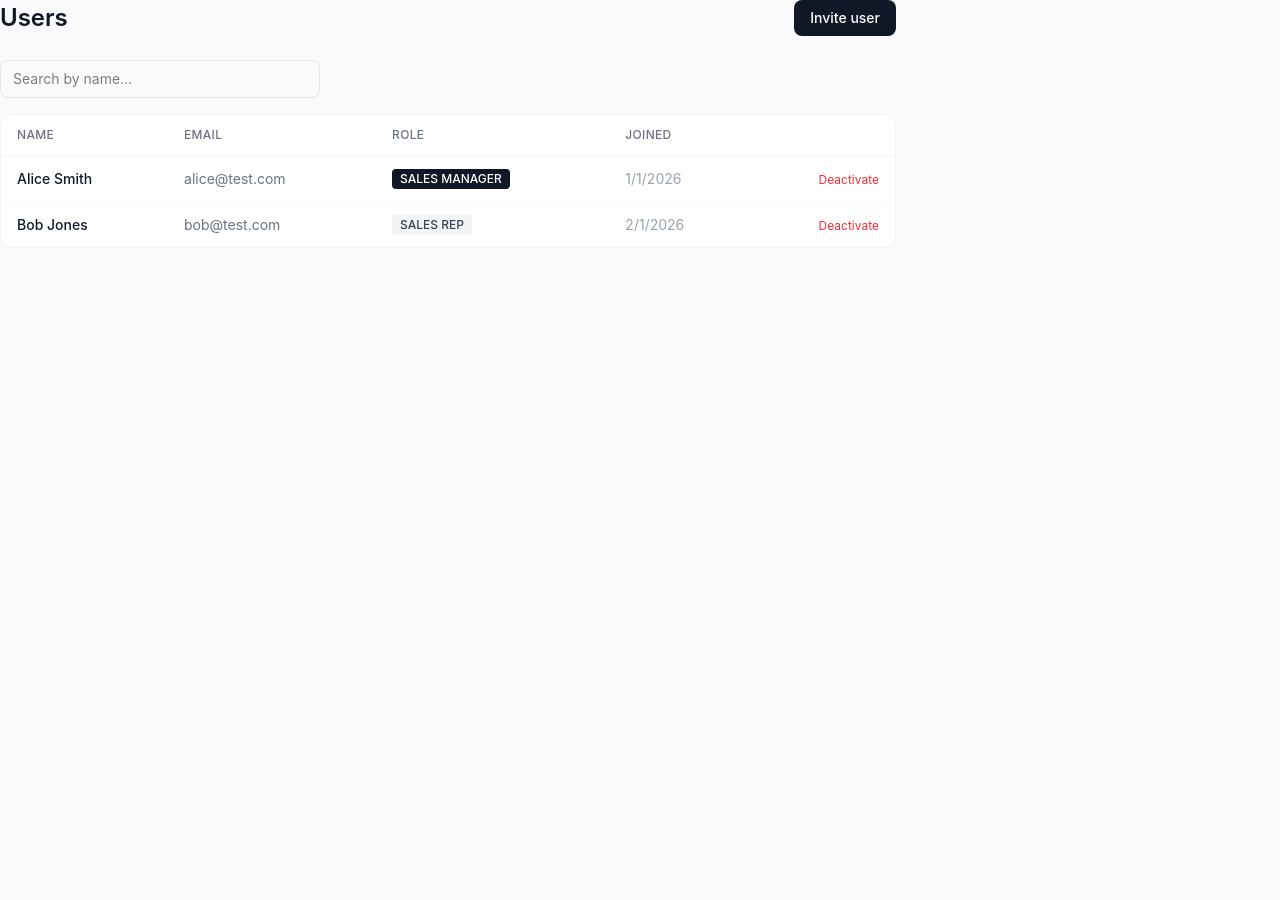
Test case: UsersPage › shows error message when deactivate mutation fails
Expected: the text "Alice Smith" is shown, [1,156,168,202]
Click the button "Deactivate" in the row of "Alice Smith": (849, 180) [819,172,879,188]
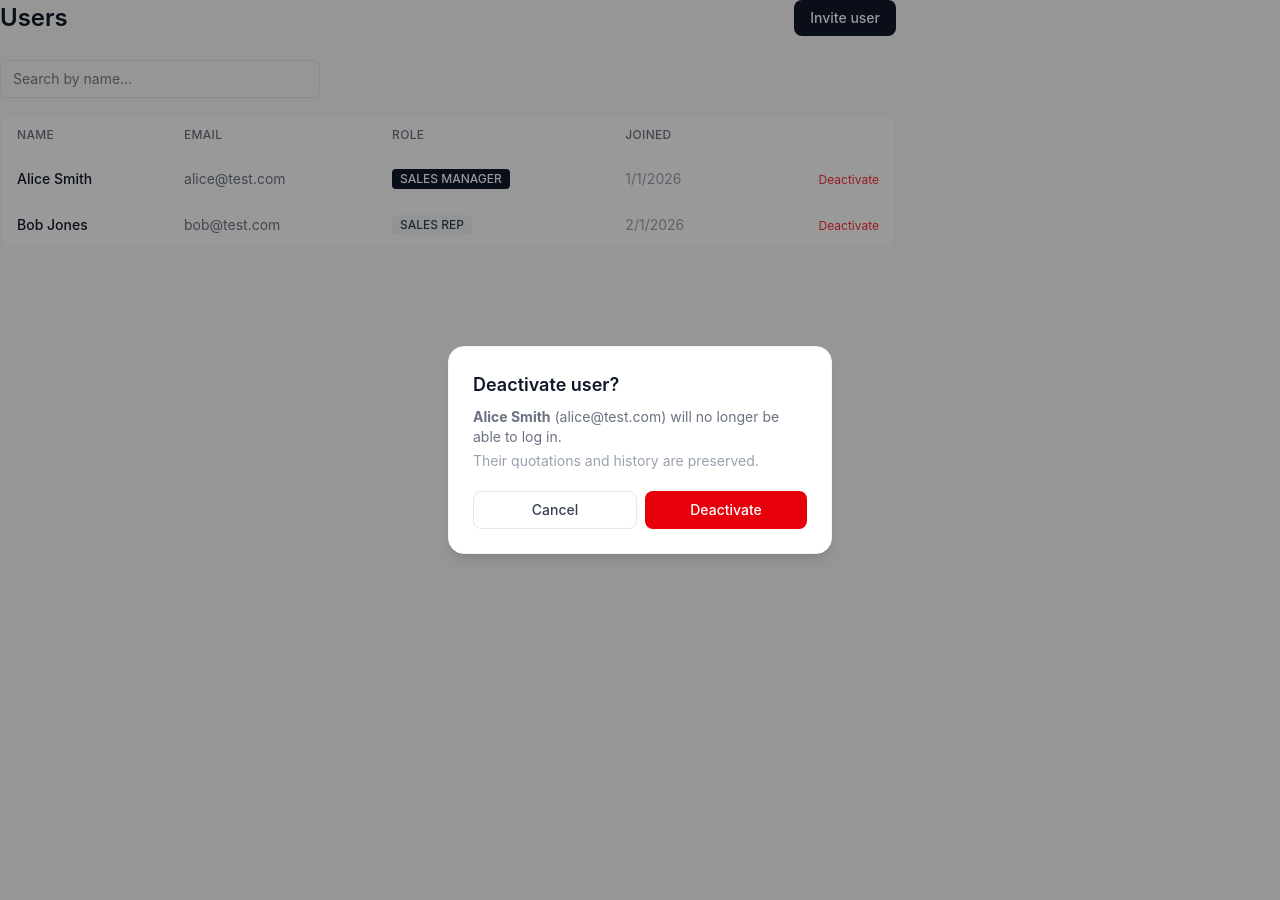
Result: the heading "Deactivate user?" is shown at [473,374,619,395]
Click the button "Deactivate": (726, 510) [645,491,807,529]
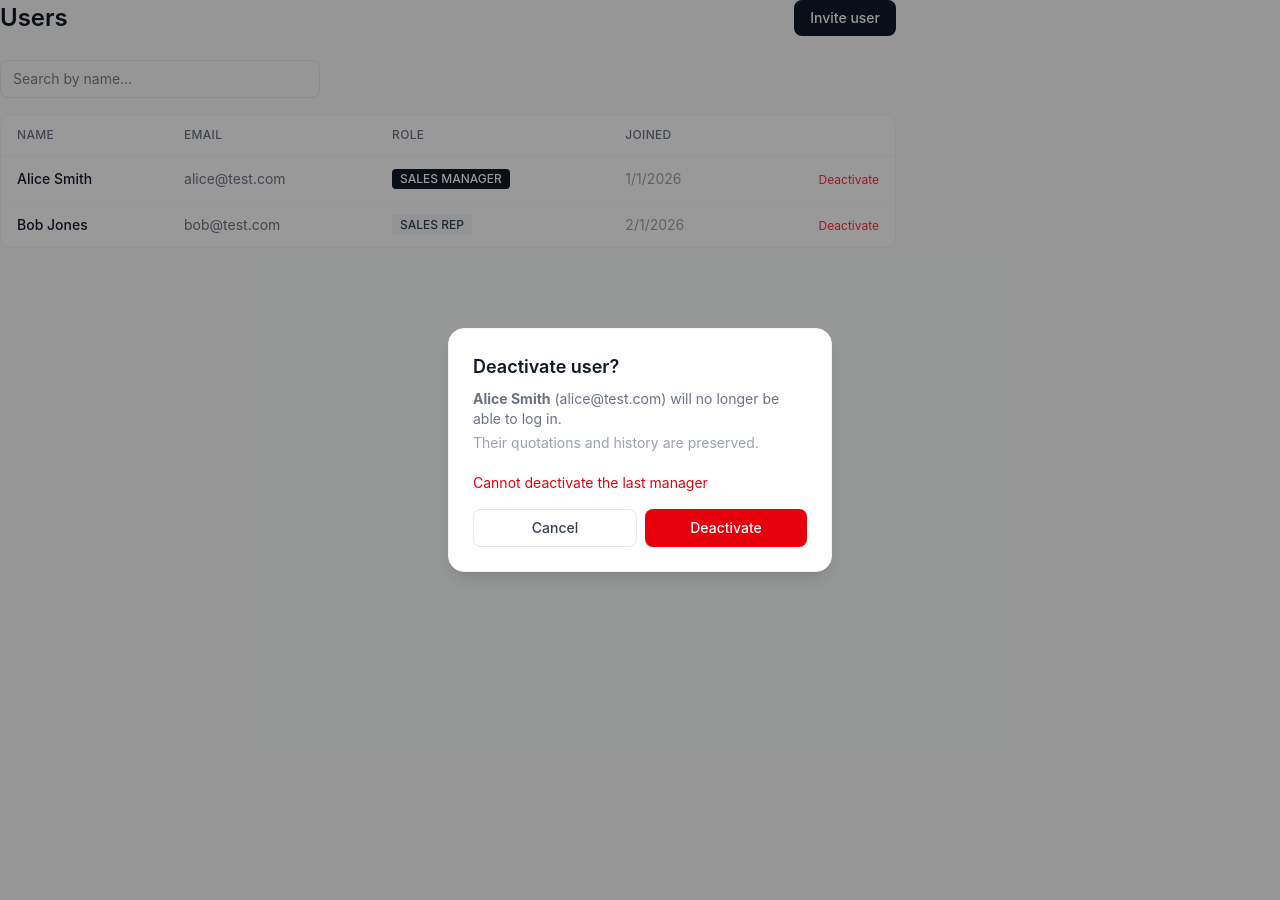
Result: the text "Cannot deactivate the last manager" is shown at [473,474,708,491]
